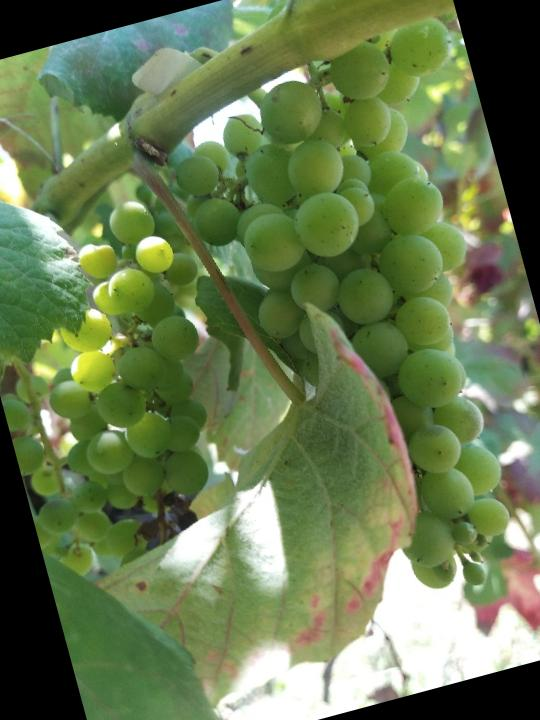grape: (149, 13, 540, 633), (3, 191, 263, 566)
